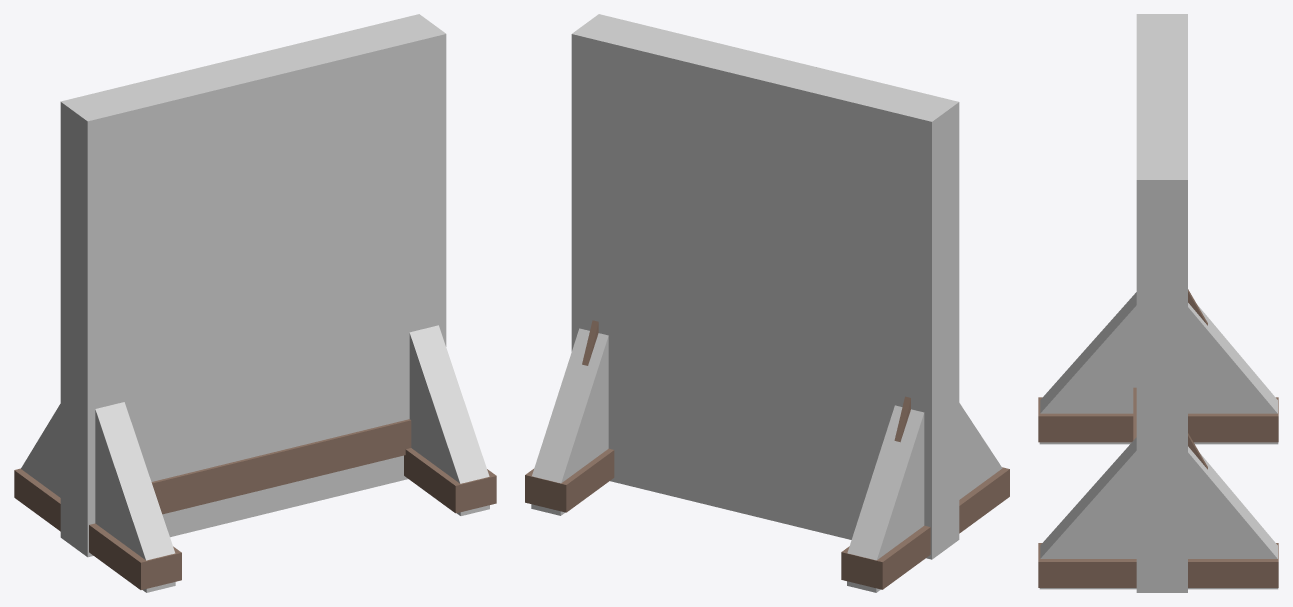
The model's file is Hub_WeaponStand01.dae.
3 views of the same model, side by side, from view 1: azimuth 30°, elevation 25°; view 2: azimuth 150°, elevation 25°; view 3: azimuth 270°, elevation 25° (orthographic). The views are drawn at different scales.
Visible parts, largest first — view 1: Coll_weapon_stand_01, weapon_stand_01; view 2: Coll_weapon_stand_01, weapon_stand_01; view 3: Coll_weapon_stand_01, weapon_stand_01.
Part boxes in pixels (x1,y1,x2,y2): Coll_weapon_stand_01: [21, 14, 489, 592]; weapon_stand_01: [14, 419, 496, 589]; Coll_weapon_stand_01: [531, 14, 1002, 592]; weapon_stand_01: [525, 320, 1009, 589]; Coll_weapon_stand_01: [1039, 14, 1278, 592]; weapon_stand_01: [1038, 289, 1278, 587].
Size of the model in its own units: 101 by 61.9 by 118.
